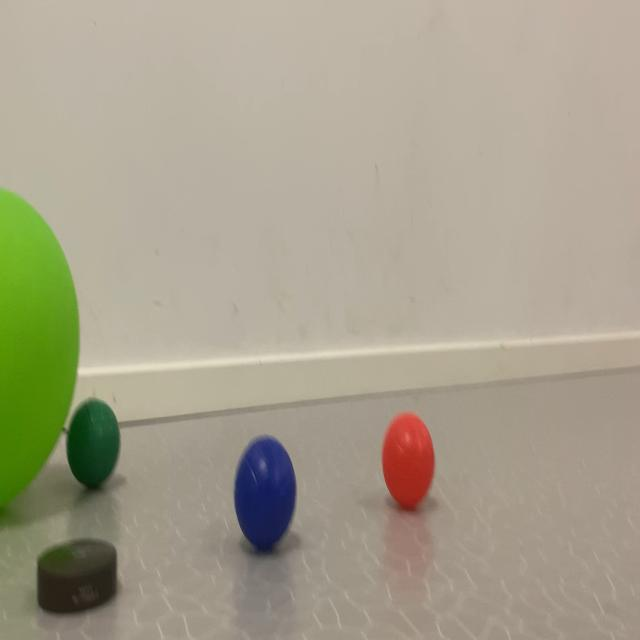7: (314, 378, 470, 568)
blue ball: (50, 372, 481, 558)
green ball: (194, 390, 315, 588)
red ball: (50, 381, 146, 499)
